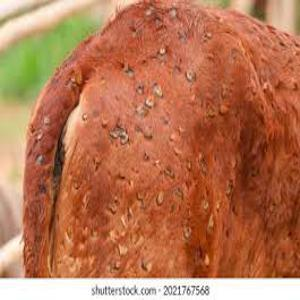lumpy skin diesease: (20, 0, 299, 278)
